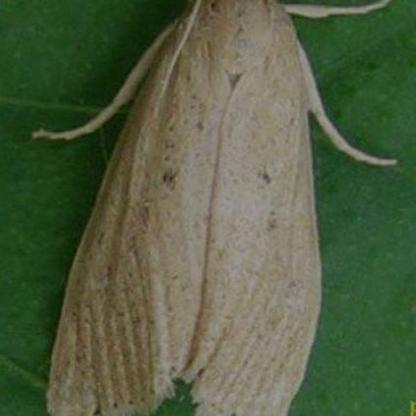stem-borer: (42, 0, 352, 416)
